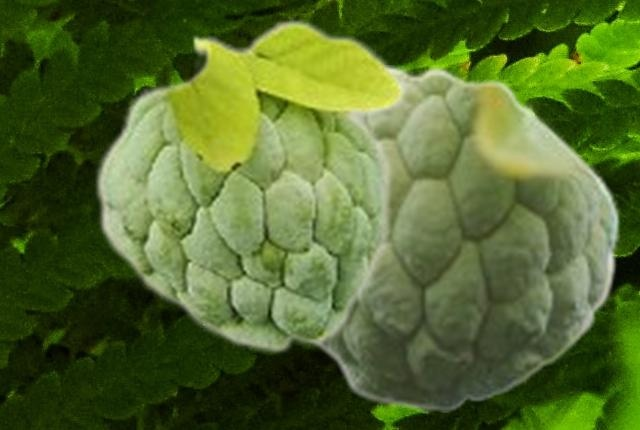atis: (309, 65, 622, 411), (92, 17, 407, 354)
